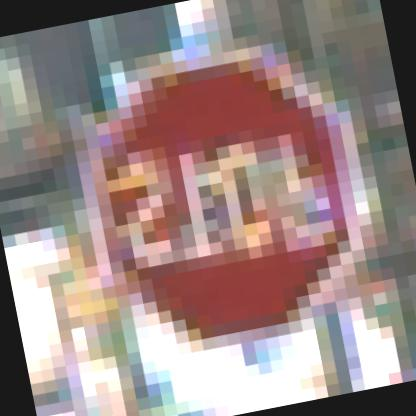stop: (60, 20, 403, 368)
